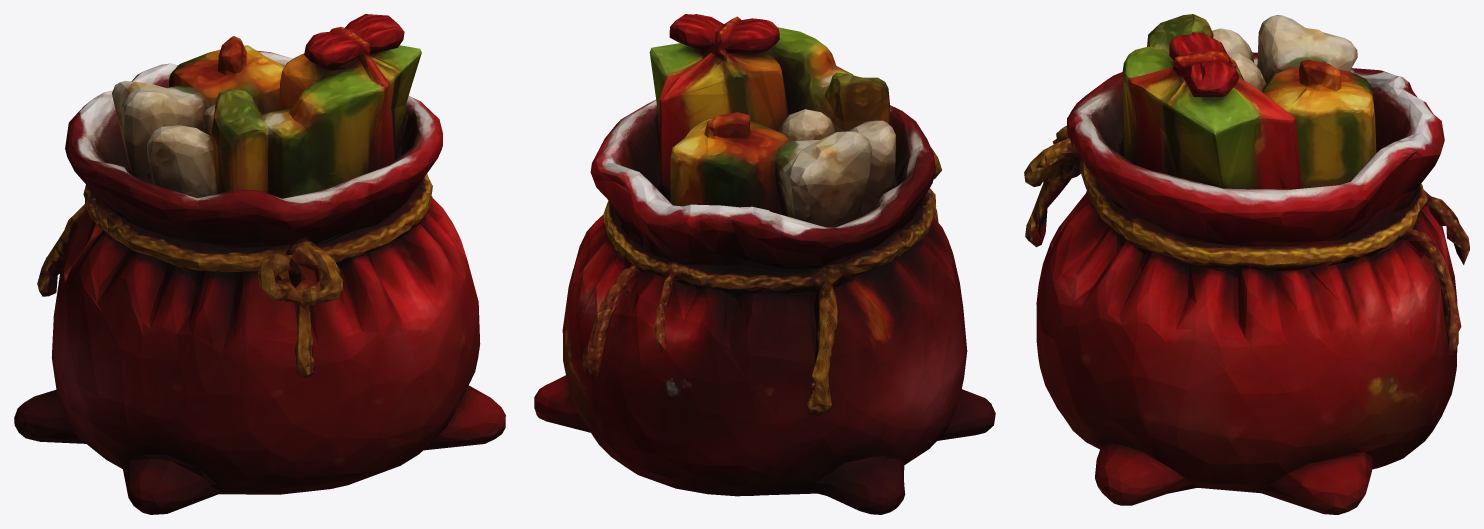
3 renders of one model, left to right at view 1: azimuth 30°, elevation 25°; view 2: azimuth 150°, elevation 25°; view 3: azimuth 270°, elevation 25°, orthographic. The views are drawn at different scales.
Parts seen in each view (by area): view 1: world; view 2: world; view 3: world.
Boxes of the visible parts, x1,y1,x2,y2 form: world: [14, 14, 505, 514]; world: [534, 14, 995, 514]; world: [1024, 14, 1469, 514].
Size of the model in its own units: 0.4978 by 0.4893 by 0.4843.
Materials: 1 (1 with a texture image).
